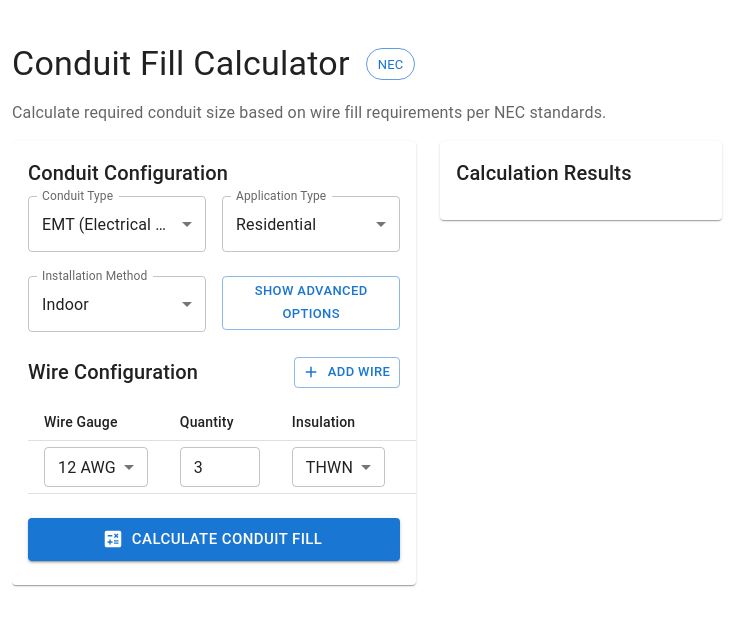
ConduitFillCalculator › Enhanced Controls › should show advanced options when toggled
The width and height of the screenshot is (744, 636).
Click the button with test id "advanced-options-toggle" at x=311, y=303, box [222, 276, 400, 330]
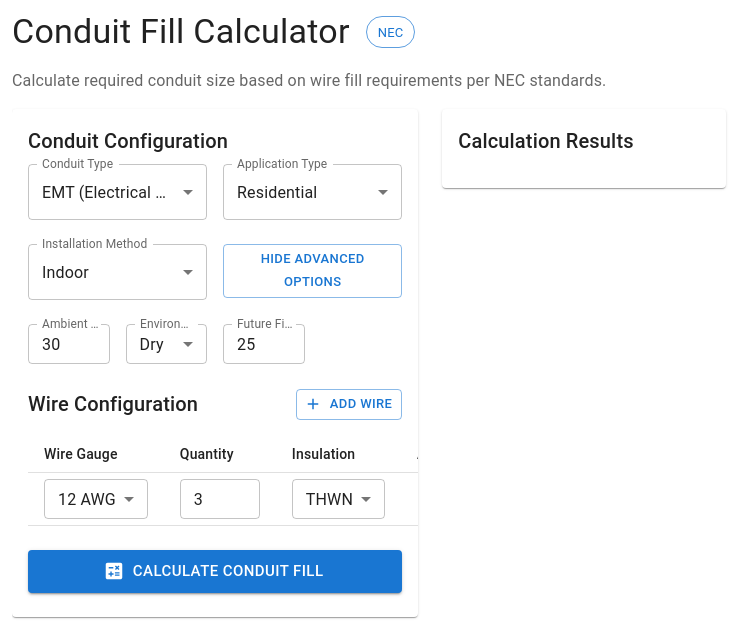
expect the element with test id "ambient-temperature-input" is shown: met, box [28, 324, 110, 364]
expect the element with test id "environment-select" is shown: met, box [126, 324, 207, 364]
expect the element with test id "future-fill-reserve-input" is shown: met, box [223, 324, 305, 364]
